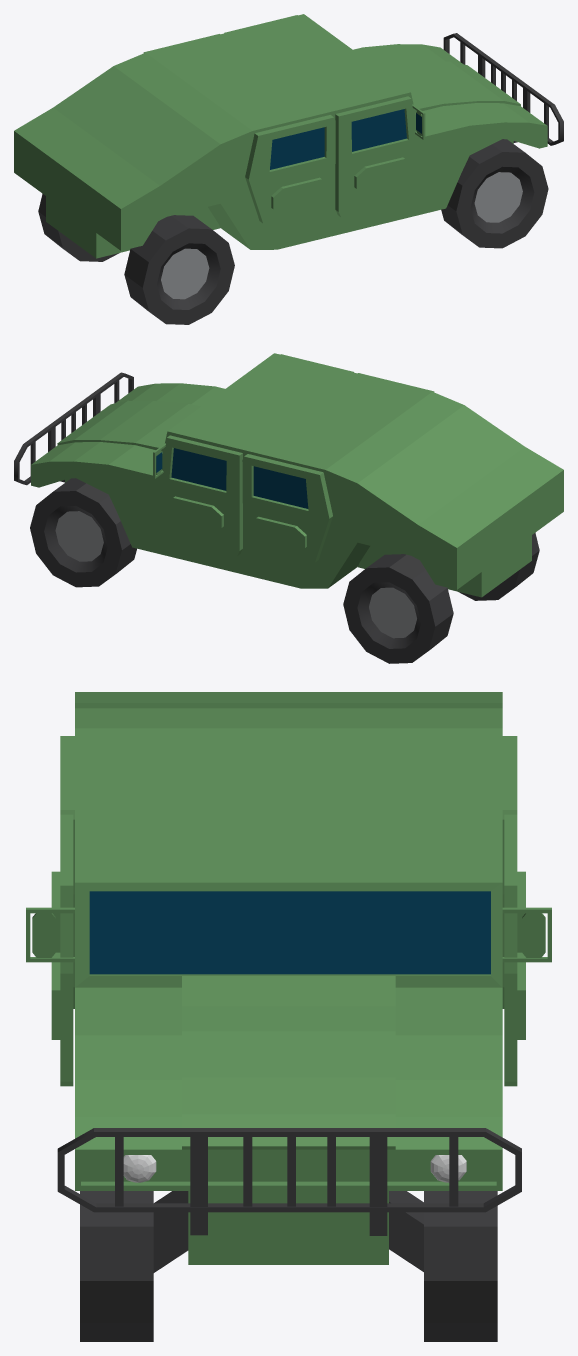
File: Humvee 1.fbx
The picture shows the model from 3 angles, top to bottom: view 1: azimuth 30°, elevation 25°; view 2: azimuth 150°, elevation 25°; view 3: azimuth 270°, elevation 25°; orthographic projection. The views are drawn at different scales.
Visible parts, largest first — view 1: Humvee_with_Back; view 2: Humvee_with_Back; view 3: Humvee_with_Back.
Part boxes in pixels (x1,y1,x2,y2): Humvee_with_Back: (14,14,563,324); Humvee_with_Back: (14,353,563,663); Humvee_with_Back: (26,692,551,1341).
Bounding box in the file's own units: 600 × 235 × 312.
